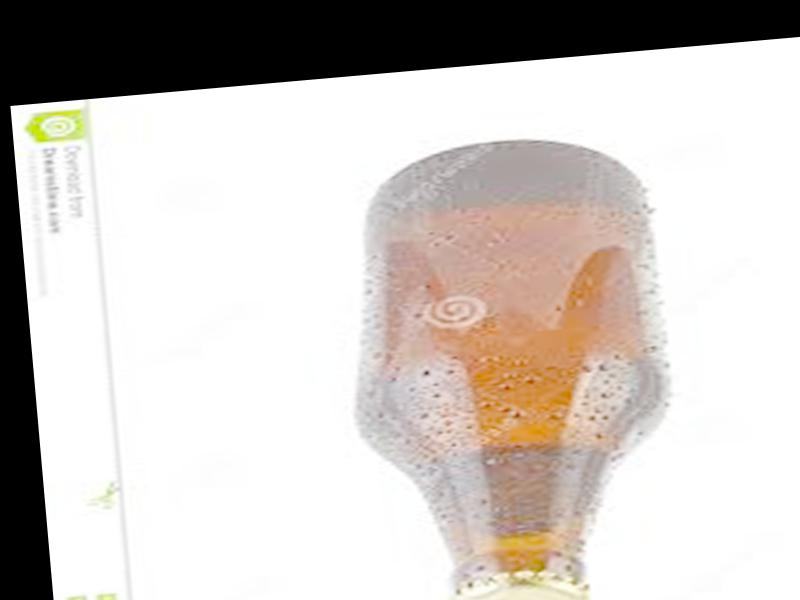Beer: (334, 130, 691, 600)
